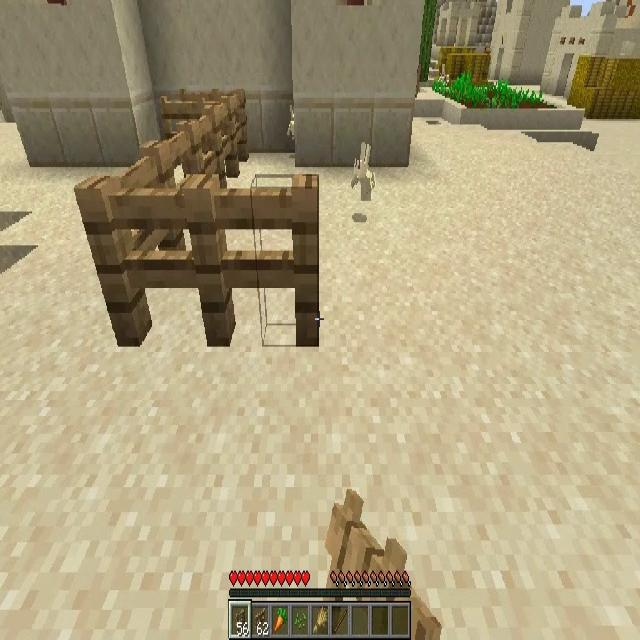rabbit: (352, 143, 375, 202)
